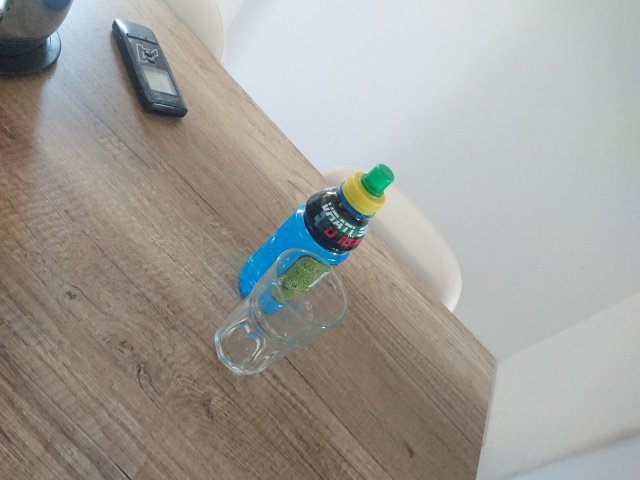Vindi Iso Sport Forest Strawberries 500mL: (235, 161, 395, 318)
